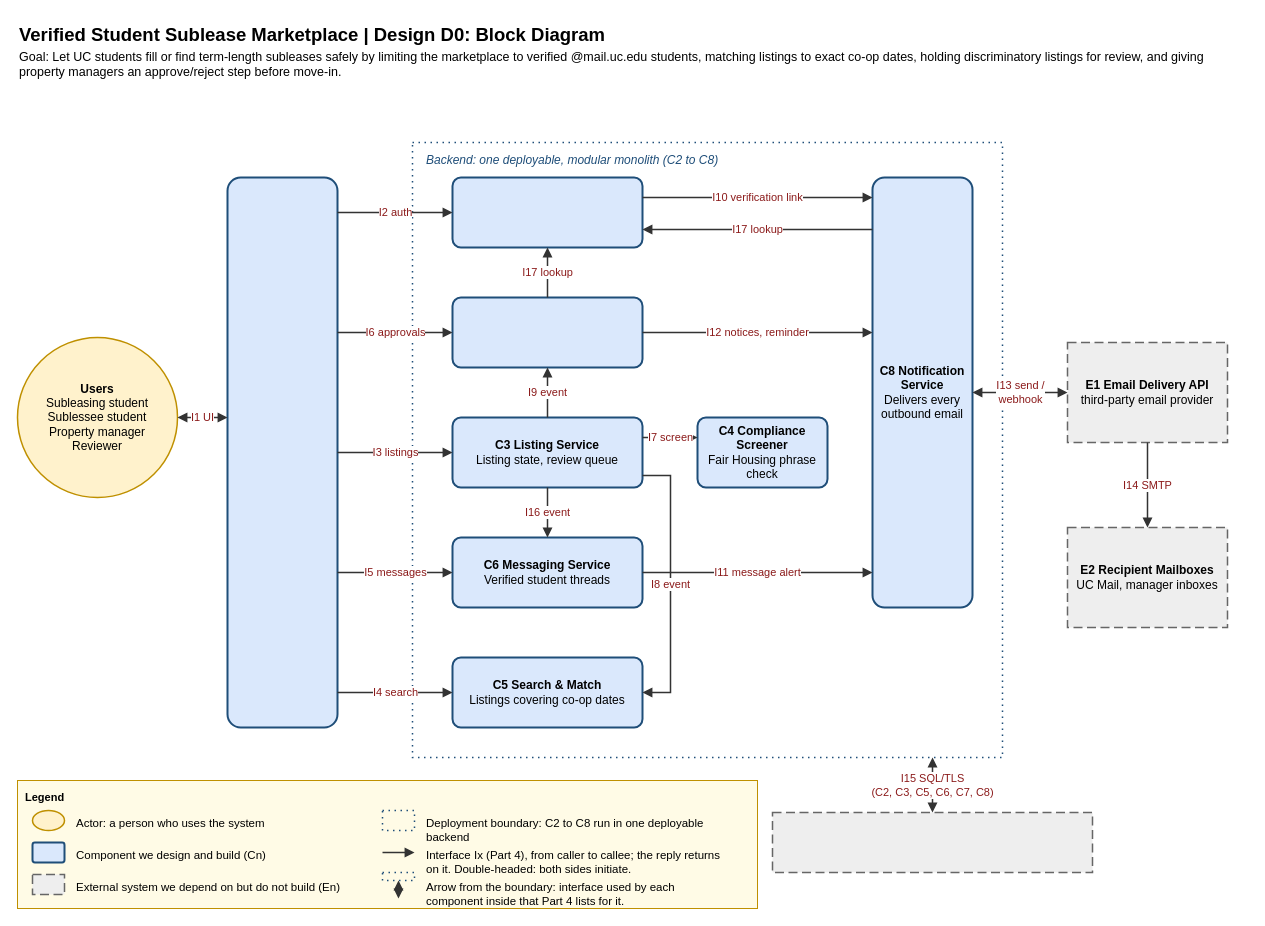
Some shapes in this 1265 by 926 pixel diagram are drawn without their labels. The centre of each missing label's shape, as x and y in pixels:
"C1 Web Client Accessible browser UI (WCAG 2.1 AA)" goes at [282,452].
"C2 Identity Service Accounts, roles, UC verification" goes at [547,212].
"C7 Approval Service Per-unit approval requests" goes at [547,332].
"E3 Managed SQL Database hosted SQL, one schema per component" goes at [932,842].
